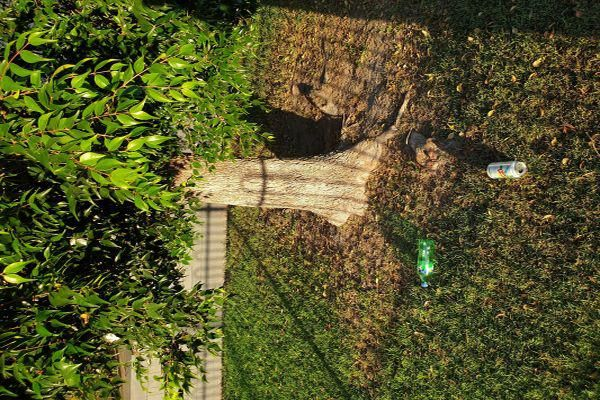Plastic Bottle: (416, 238, 437, 288), (486, 161, 528, 180)
